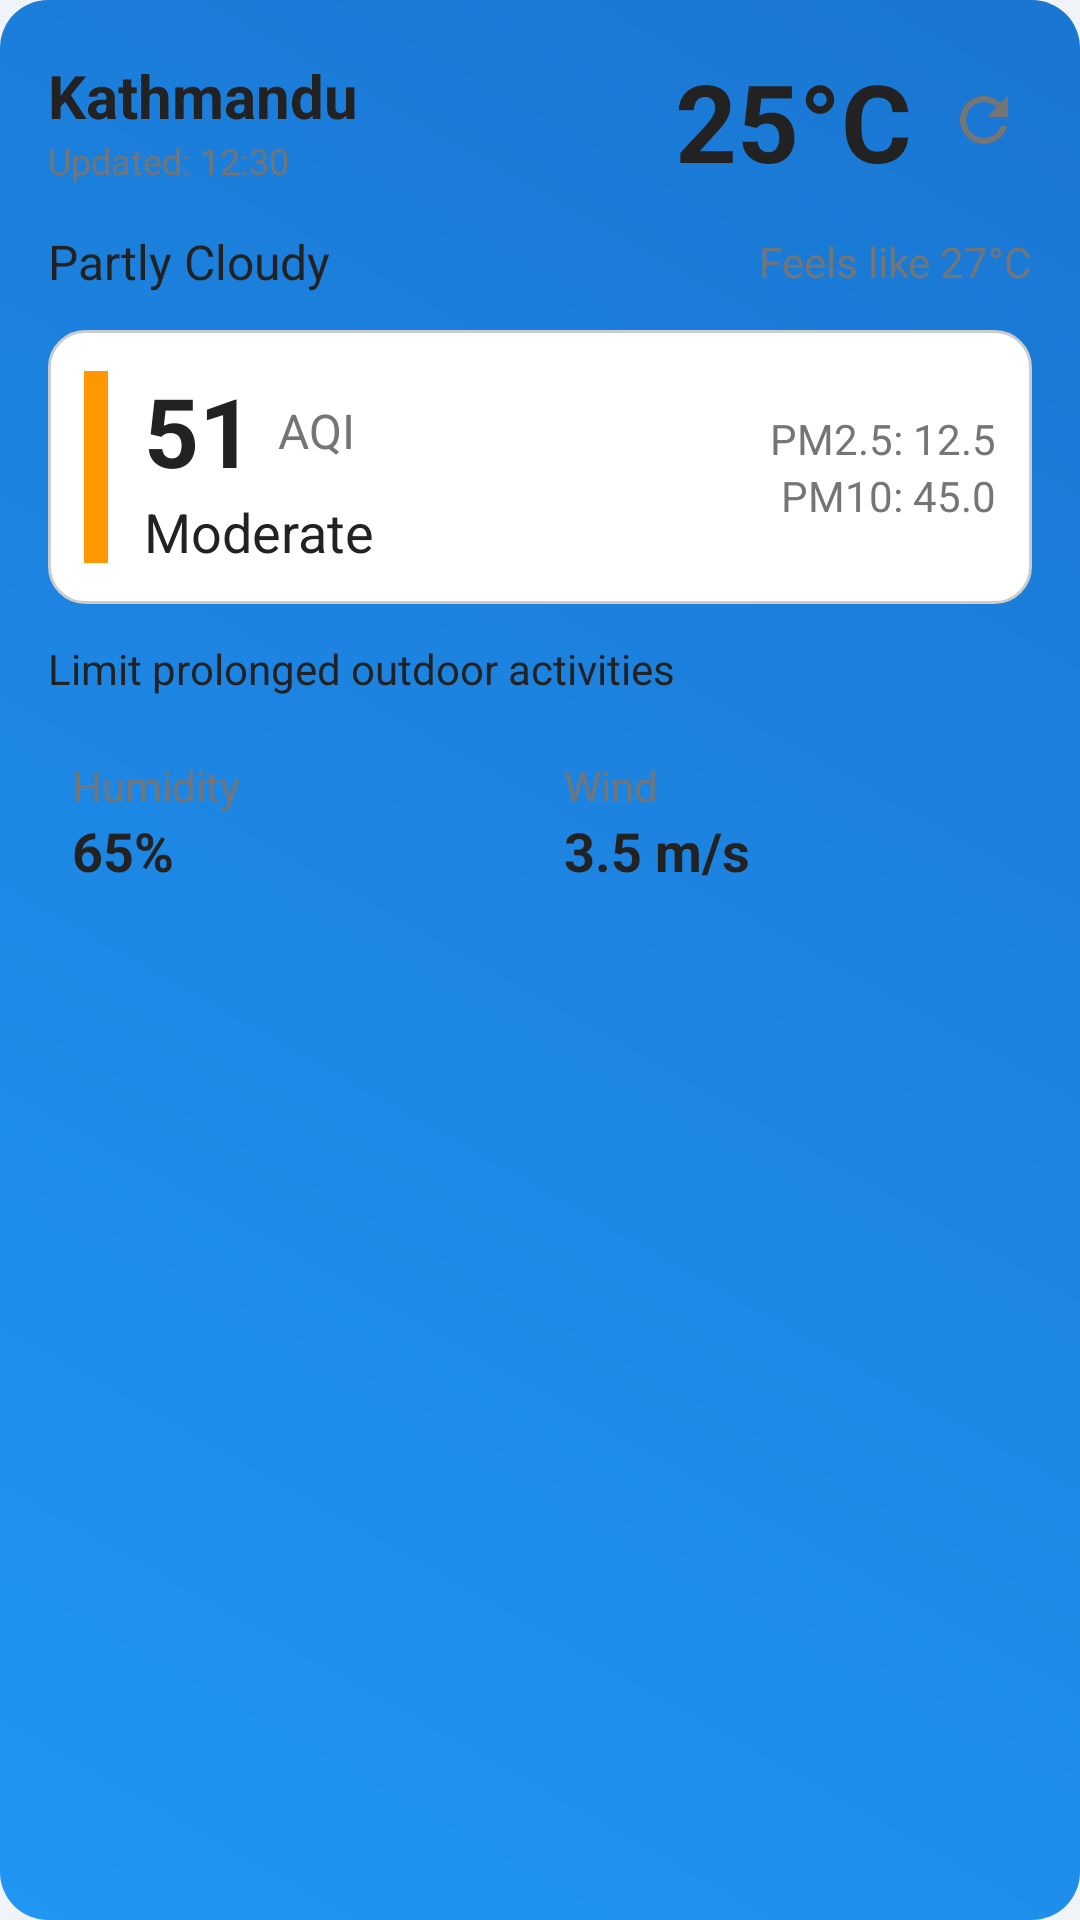

Where to tap for icons on this 1080w x 1920h app screen, as point (x, y):
Refresh weather data: point (984, 120)
